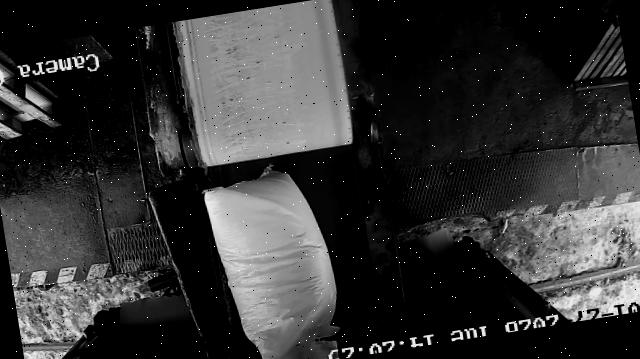bag: (200, 158, 347, 359), (223, 340, 338, 359)
